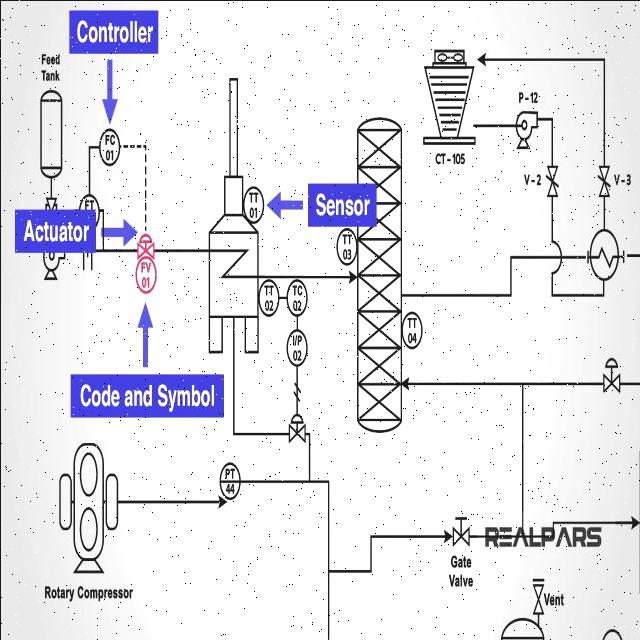Butterfly Valve: (593, 158, 612, 200), (544, 162, 558, 198)
Centrifugal Pump: (514, 110, 538, 156)
Gear Pump: (51, 436, 130, 579)
Hand Operated Gate Valve: (448, 508, 474, 558)
Pneumatic-Diaphragm Gate Valve: (596, 348, 622, 402), (284, 413, 307, 453), (134, 232, 156, 258)
